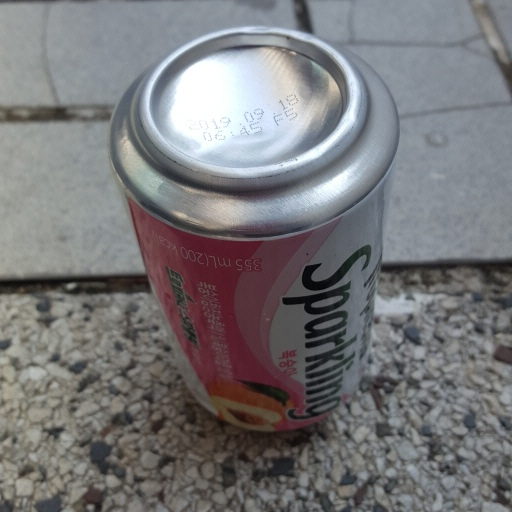Metal_0: (108, 26, 401, 435)
